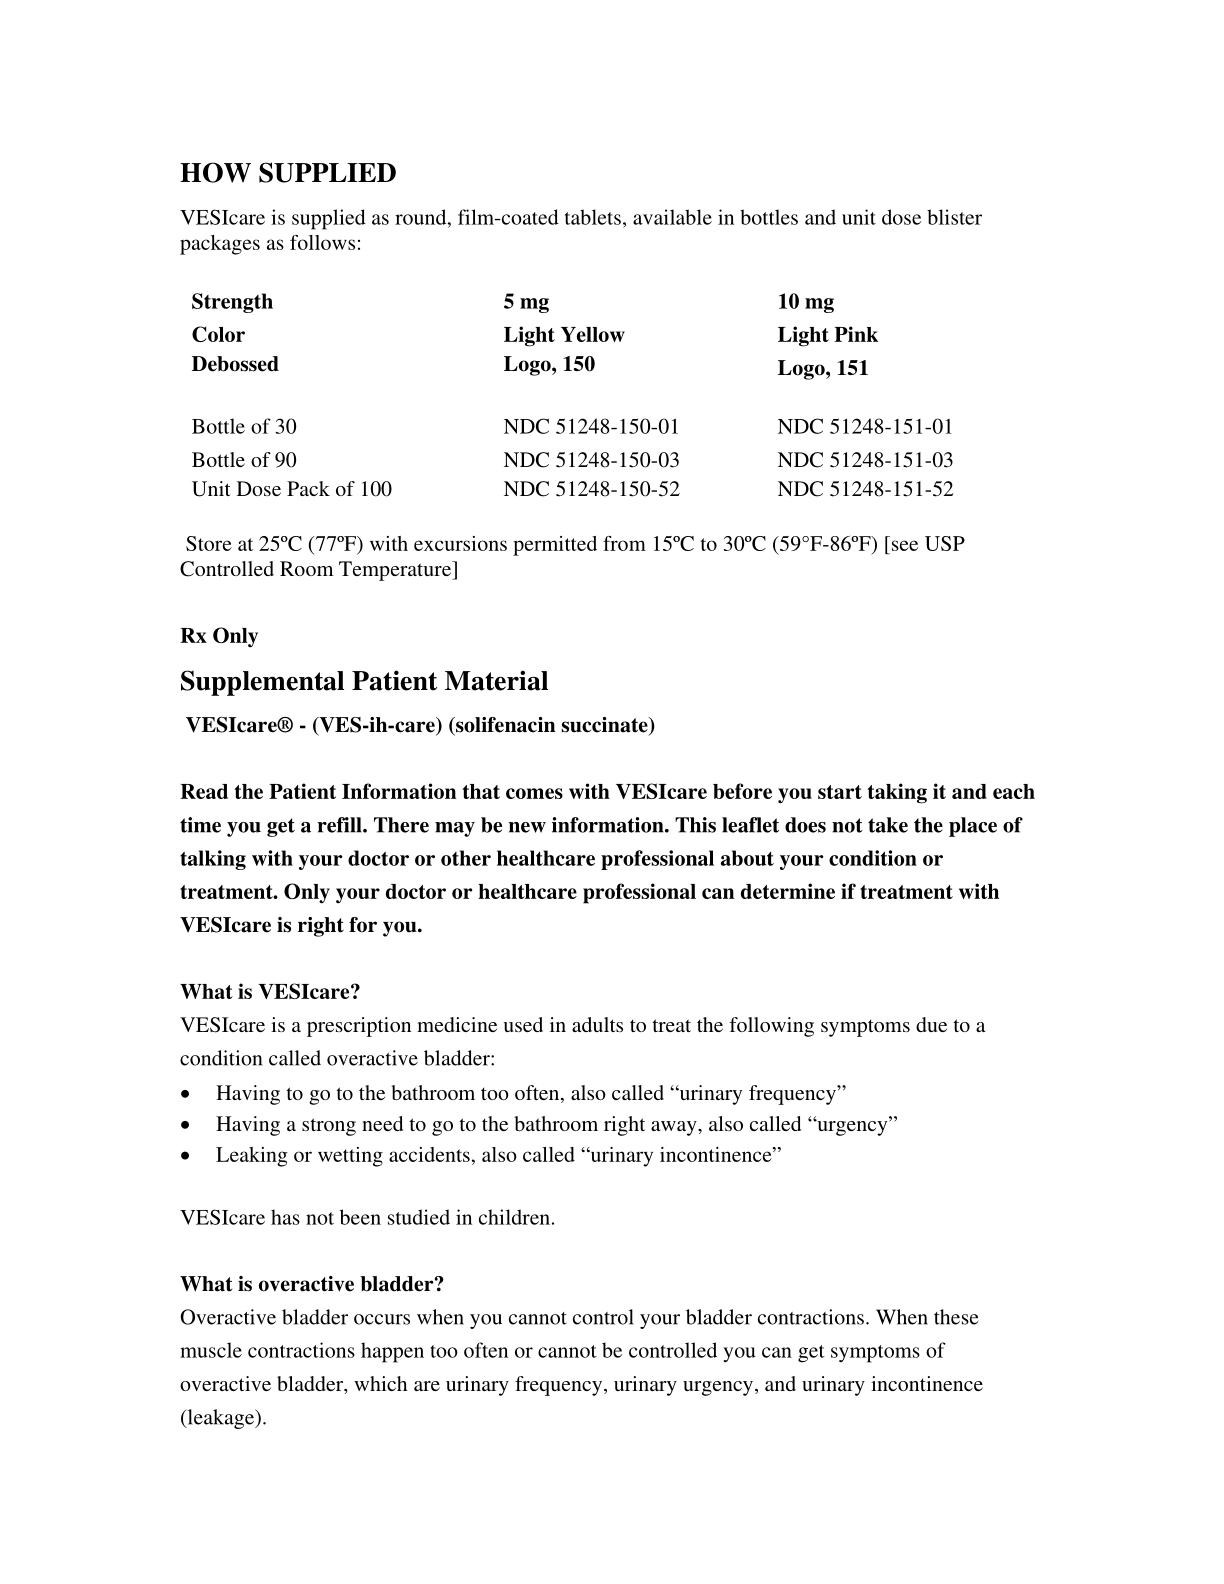nolines: (190, 288, 960, 503)
